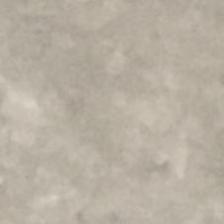Non_Crack: (24, 22, 207, 224)
